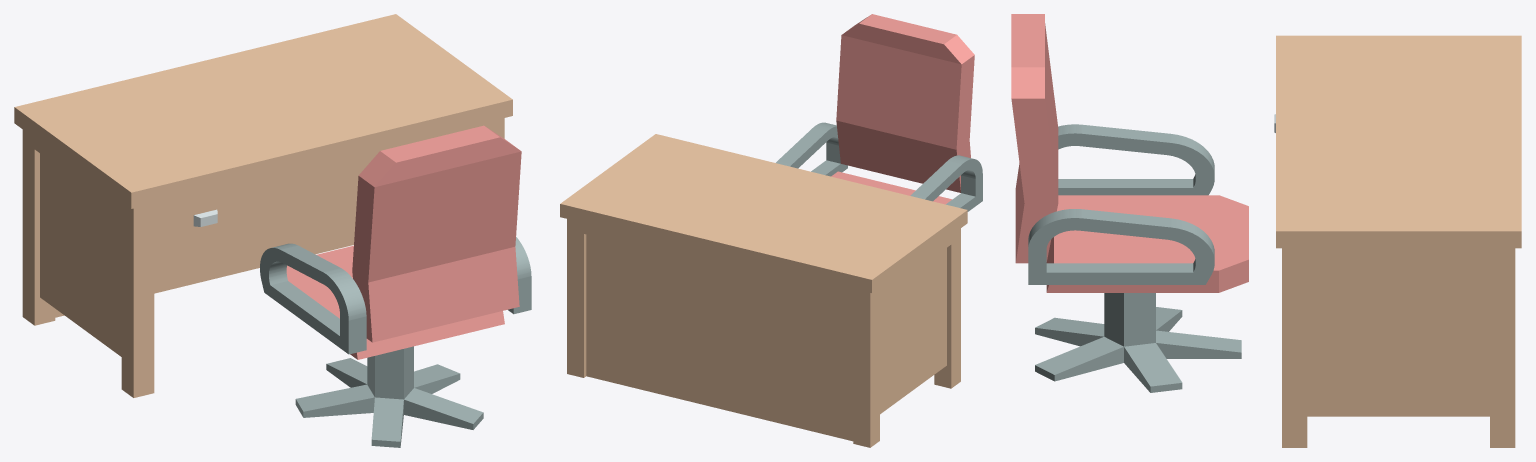
Rendered from camp-reading-desk-v1.glb.
3 views of the same model, side by side, from view 1: azimuth 30°, elevation 25°; view 2: azimuth 150°, elevation 25°; view 3: azimuth 270°, elevation 25° (orthographic). The views are drawn at different scales.
Parts seen in each view (by area): view 1: camp_reading_desk_v1_0, camp_reading_desk_v1_2, camp_reading_desk_v1_3, camp_reading_desk_v1_1; view 2: camp_reading_desk_v1_0, camp_reading_desk_v1_2; view 3: camp_reading_desk_v1_0, camp_reading_desk_v1_2, camp_reading_desk_v1_3.
Part boxes in pixels (x1,y1,x2,y2): camp_reading_desk_v1_0: (14, 14, 512, 397); camp_reading_desk_v1_2: (260, 125, 531, 359); camp_reading_desk_v1_3: (295, 346, 483, 447); camp_reading_desk_v1_1: (154, 192, 256, 243); camp_reading_desk_v1_0: (560, 134, 967, 447); camp_reading_desk_v1_2: (776, 14, 982, 211); camp_reading_desk_v1_0: (1276, 35, 1521, 447); camp_reading_desk_v1_2: (1011, 14, 1248, 292); camp_reading_desk_v1_3: (1035, 293, 1241, 392).
Size of the model in its own units: 1.47 by 1.09 by 1.62.
